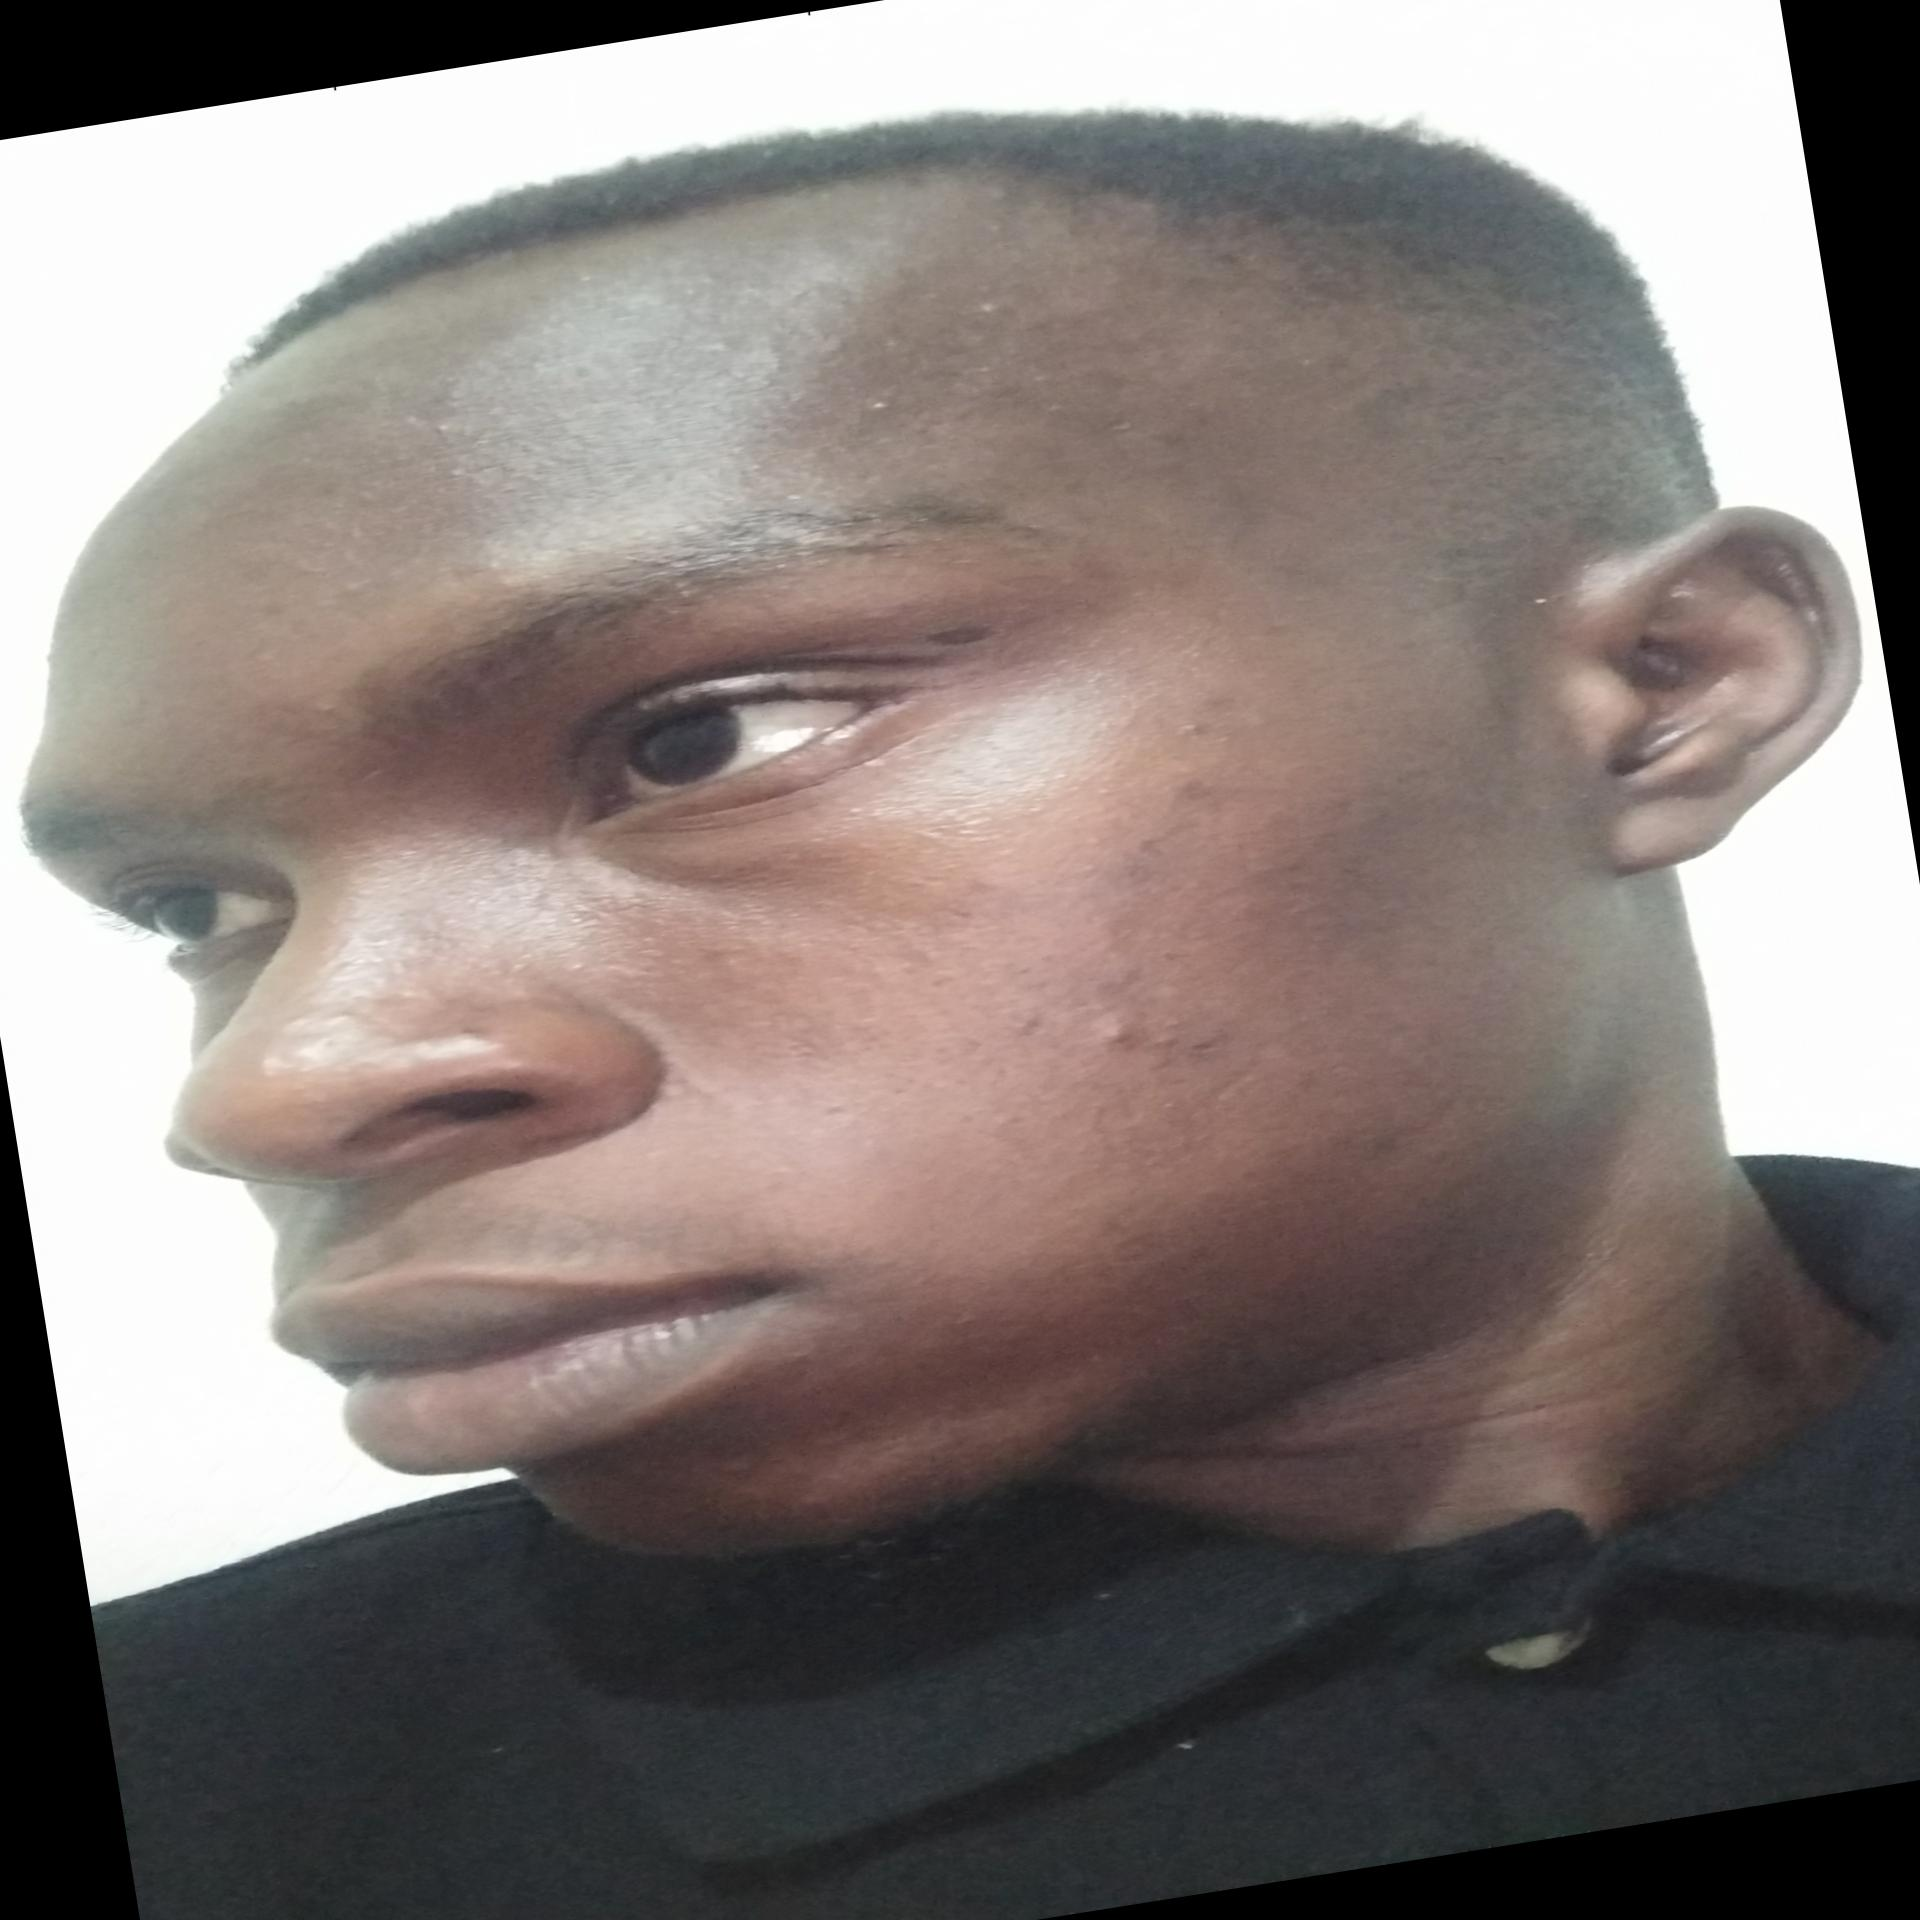Acne: (1076, 986, 1245, 1076), (1065, 825, 1187, 937), (1152, 761, 1233, 814), (964, 285, 1027, 332), (858, 383, 932, 424), (418, 408, 482, 447), (1176, 714, 1215, 738)
